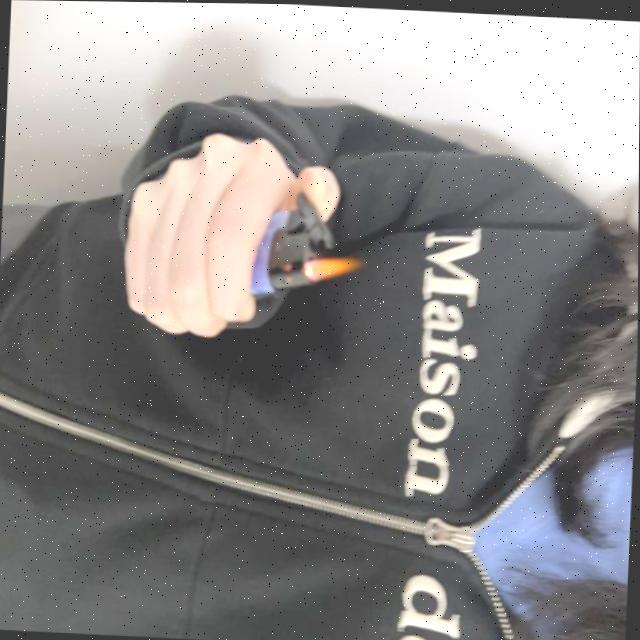Fire: (304, 252, 364, 283)
